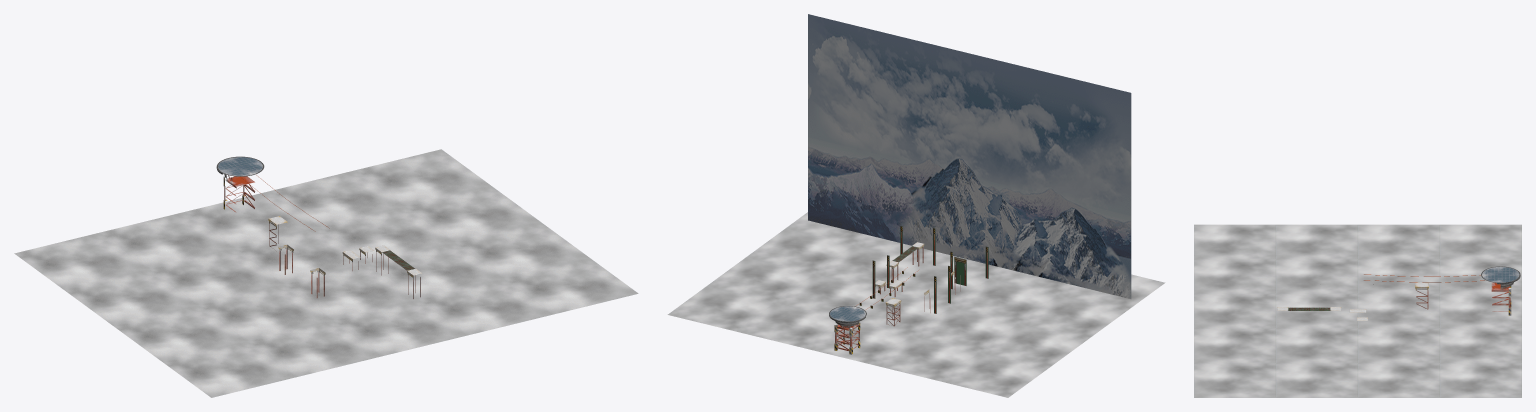
The model's file is EnvironmentE.glb.
The picture shows the model from 3 angles, left to right: view 1: azimuth 30°, elevation 25°; view 2: azimuth 150°, elevation 25°; view 3: azimuth 270°, elevation 25°; orthographic projection. The views are drawn at different scales.
Parts seen in each view (by area): view 1: EnvironmentE_Medium, BigPlace shadow; view 2: EnvironmentE_Medium, BigPlace shadow; view 3: EnvironmentE_Medium, BigPlace shadow.
Boxes of the visible parts, x1,y1,x2,y2 form: EnvironmentE_Medium: (14,149,638,397); BigPlace shadow: (216,156,264,212); EnvironmentE_Medium: (667,14,1165,397); BigPlace shadow: (829,306,866,354); EnvironmentE_Medium: (1194,224,1521,397); BigPlace shadow: (1481,266,1520,315).
Size of the model in its own units: 136 by 82.7 by 109.
Materials: 1 (1 with a texture image).
